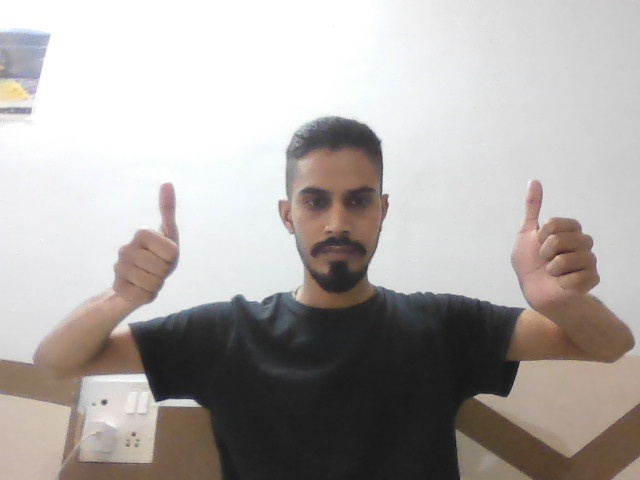ThumbsUp: (511, 174, 602, 310)
